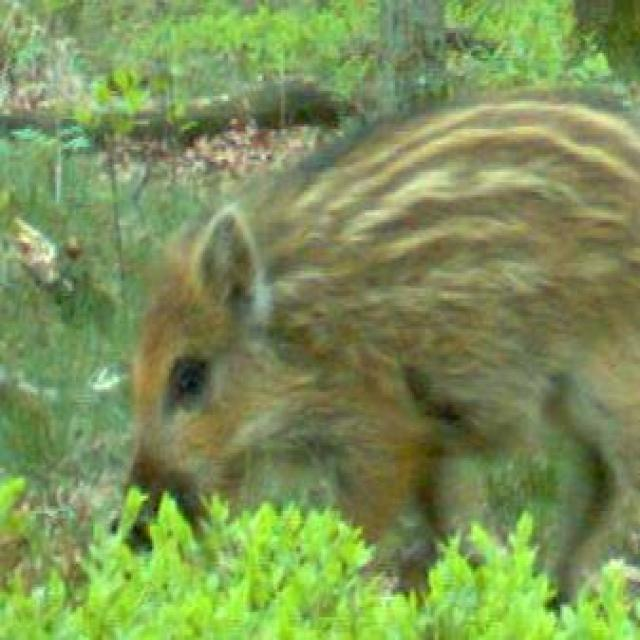pig: (48, 47, 640, 640)
